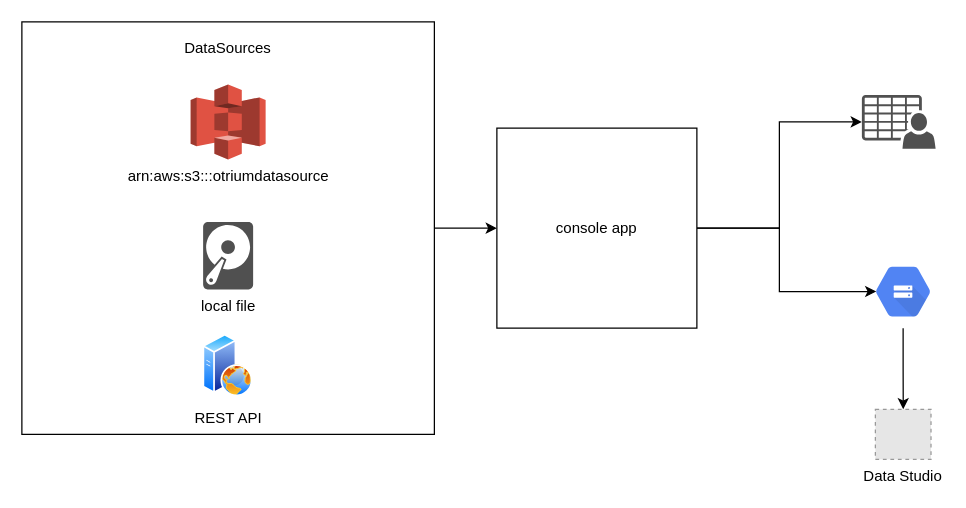
Image size: 966x508. Some labels were removed from this diagram. Grey dashed boxes stand in for pictures. Each missing label, with the centre of its shape:
"Cloud Storage" goes at point (902, 291).
"csv files" goes at point (898, 121).
